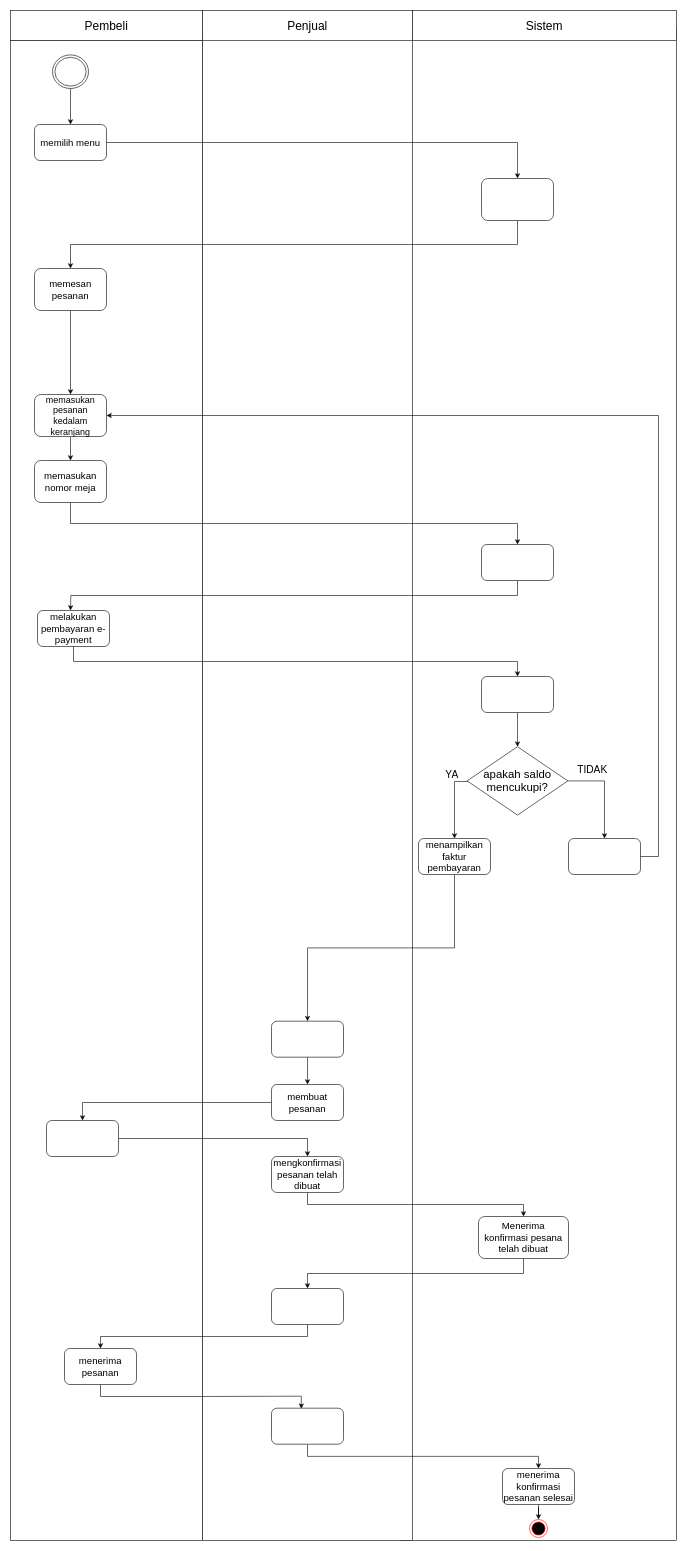
The diagram is 687 pixels wide and 1551 high, and some of its shapes have lost their labels. Each missing label, with the centre of its shape:
konfirmasi pesanan telah diantar: the point at 307,1426
memberikan info pembayaran: the point at 517,562
memproses pembayaran: the point at 517,694
menampilkan saldo tidak cukup: the point at 604,856
Menerima notifikasi pesanan sedang dibuat: the point at 82,1138
menerima pemberitahuan pesanan: the point at 307,1039
mengantarkan pesanan: the point at 307,1306
pesanan terinput pada aplikasi: the point at 517,199
